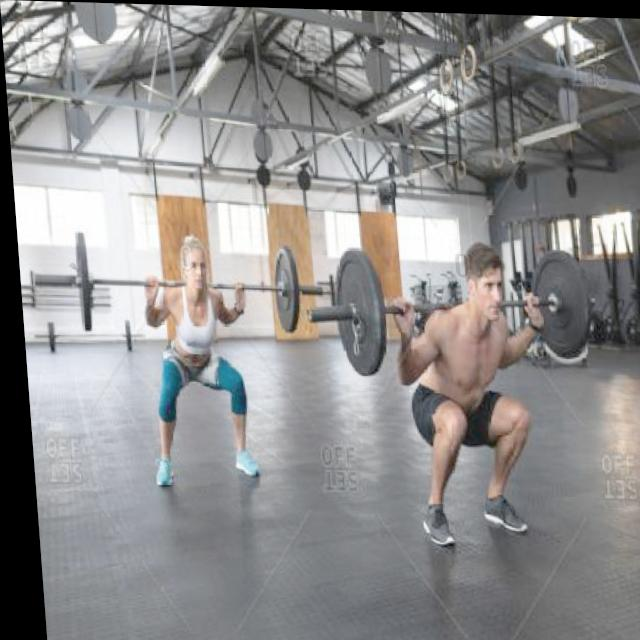barbell: (296, 243, 393, 380), (24, 229, 90, 334)
